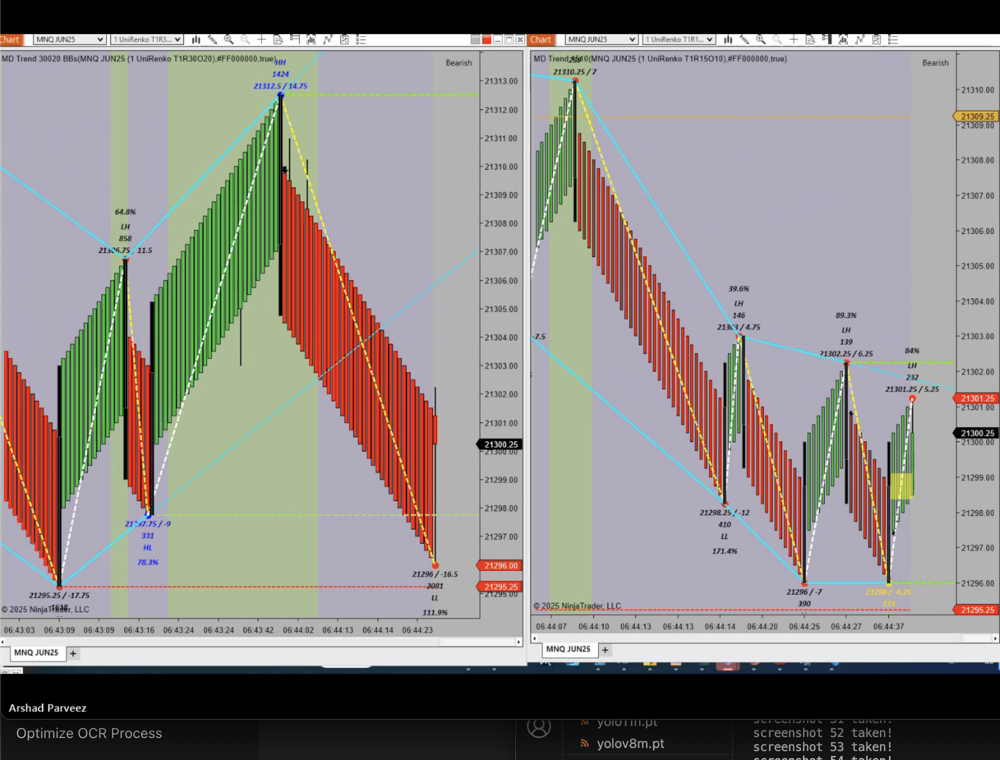HH: (268, 58, 296, 70)
HL: (136, 540, 160, 560)
LH: (111, 217, 140, 235), (729, 291, 753, 312), (839, 322, 860, 339), (904, 359, 923, 373)
LL: (714, 527, 740, 544), (426, 591, 447, 606)
